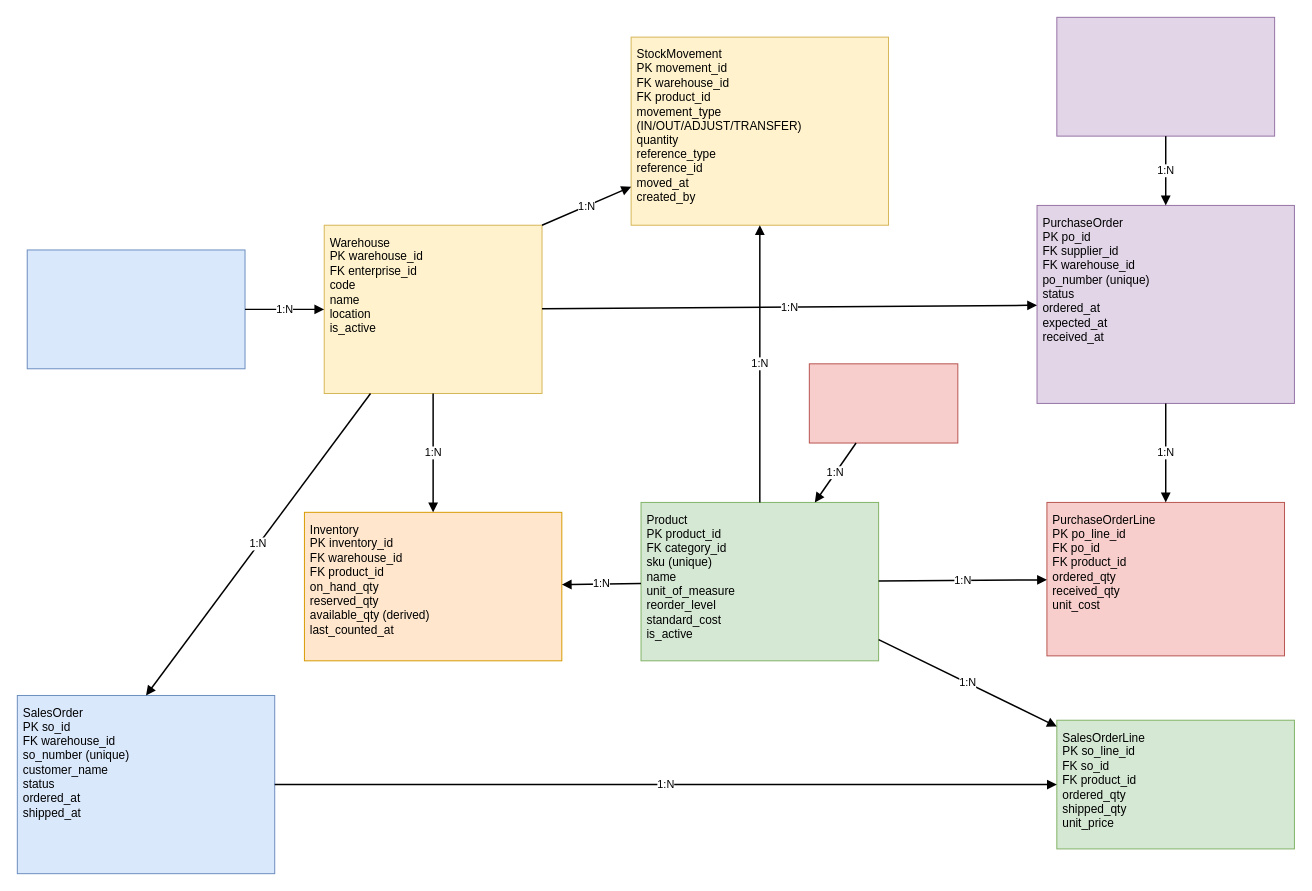
Some shapes in this 1312 by 891 pixel diagram are drawn without their labels. Each missing label, with the centre of its shape:
"Category PK category_id name description" goes at point (883, 403).
"Enterprise PK enterprise_id name registration_no tax_id created_at" goes at point (135, 309).
"Supplier PK supplier_id name contact_name email phone" goes at point (1165, 76).
